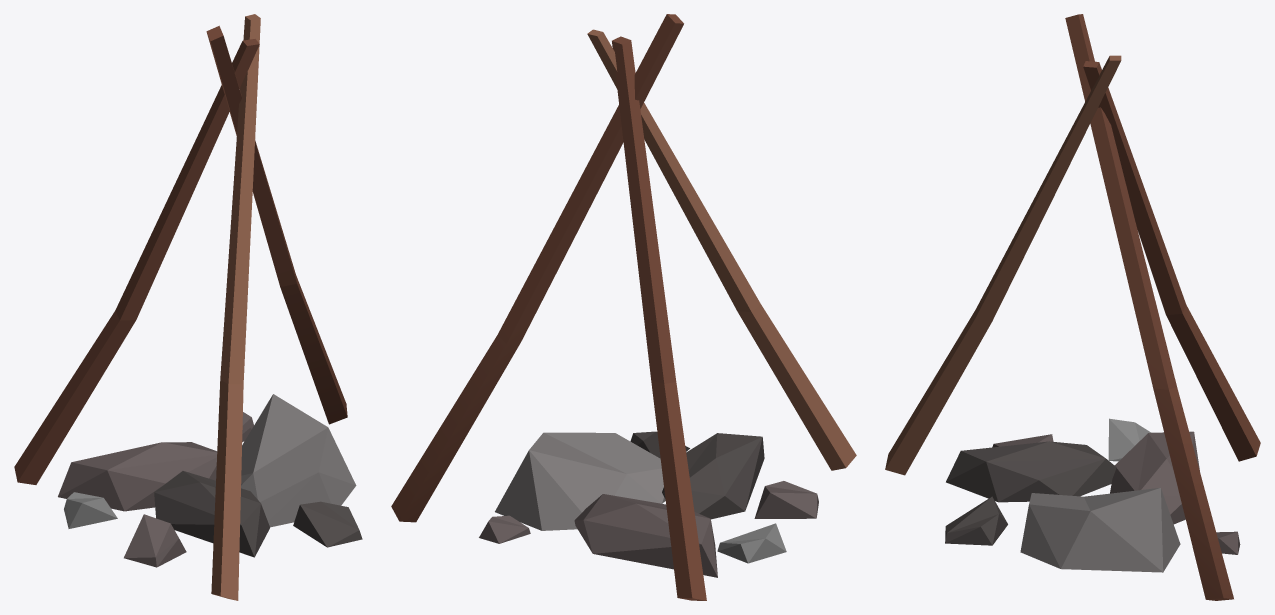
Rendered from Bonfire.glb.
3 renders of one model, left to right at view 1: azimuth 30°, elevation 25°; view 2: azimuth 150°, elevation 25°; view 3: azimuth 270°, elevation 25°, orthographic.
Parts seen in each view (by area): view 1: Bonfire 1; view 2: Bonfire 1; view 3: Bonfire 1.
Part boxes in pixels (left/top/right/bottom): Bonfire 1: left=14, top=14, right=362, bottom=600; Bonfire 1: left=391, top=14, right=856, bottom=600; Bonfire 1: left=885, top=14, right=1260, bottom=600.
Size of what is drawn, in the model's own units: 1.55 by 2.19 by 1.49.
Materials: 1 (1 with a texture image).
